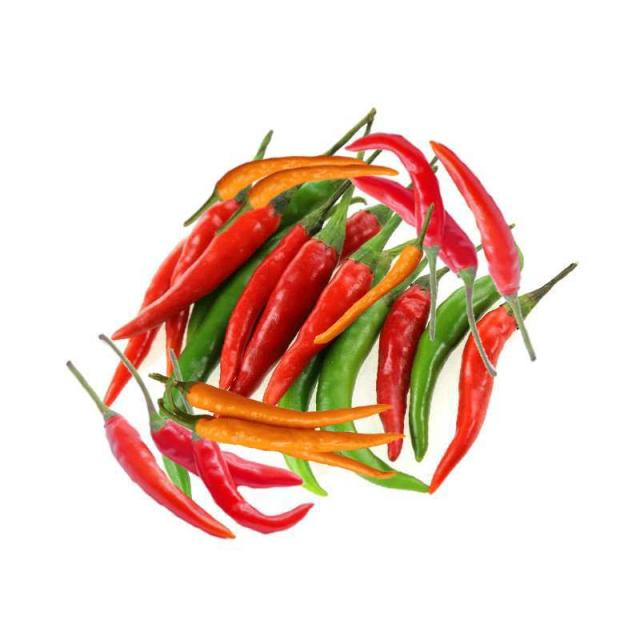red chili: (67, 362, 234, 540), (264, 215, 402, 404), (230, 186, 354, 396), (432, 141, 537, 361), (113, 205, 282, 340), (430, 337, 494, 494), (378, 275, 431, 434), (131, 370, 198, 476), (521, 263, 578, 316), (222, 453, 302, 488), (478, 304, 518, 364)
